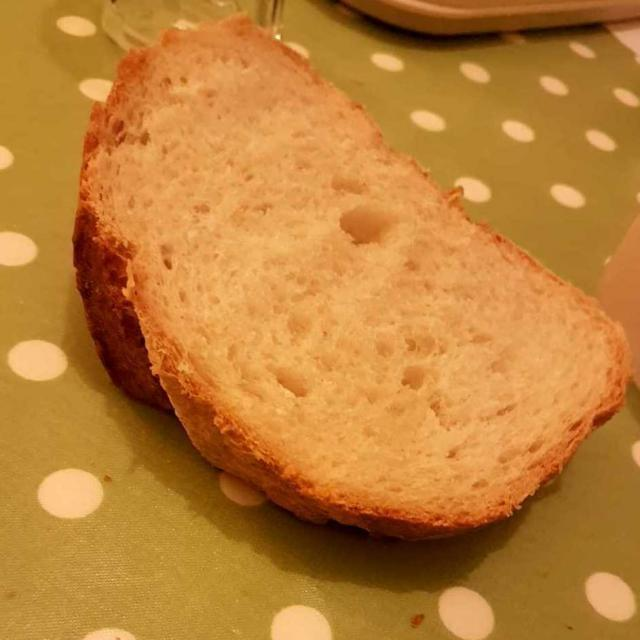bread: (78, 27, 621, 532)
